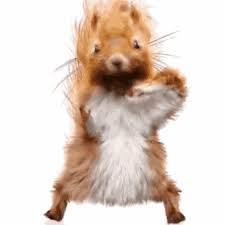squirrel: (45, 0, 189, 222)
